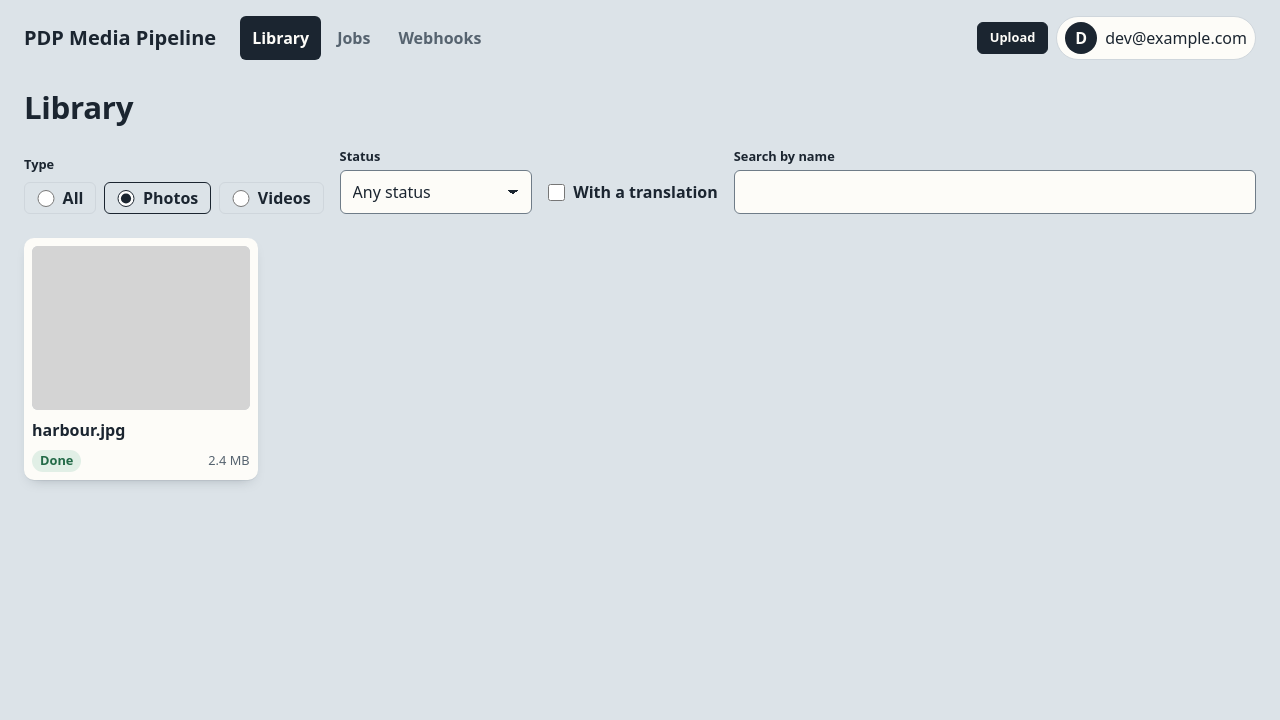
file page › returns to the library with the filters it came from
This screenshot has width=1280, height=720.
Click the link "harbour.jpg" at {"x": 141, "y": 344}, box [32, 246, 250, 442]
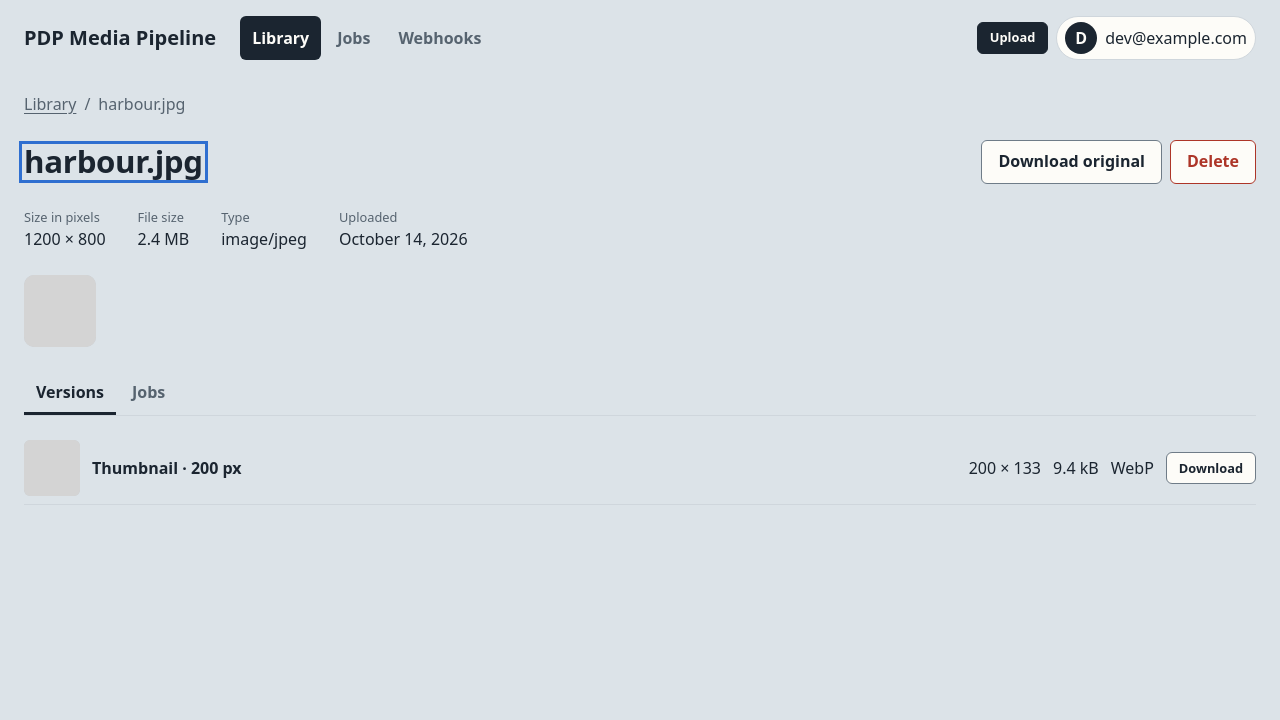
Expected: the heading "harbour.jpg" is shown, [24, 146, 203, 178]
